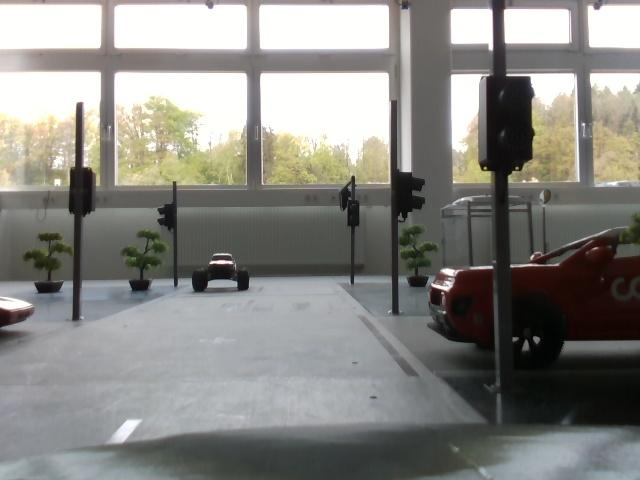car: (439, 223, 640, 366), (193, 253, 257, 301), (2, 293, 37, 331)
potted plant: (28, 232, 72, 297), (126, 229, 166, 298), (398, 222, 434, 288)
traffic light: (480, 75, 537, 175), (393, 172, 427, 218), (70, 169, 98, 220), (158, 202, 180, 231), (349, 204, 361, 224), (341, 188, 353, 208)
